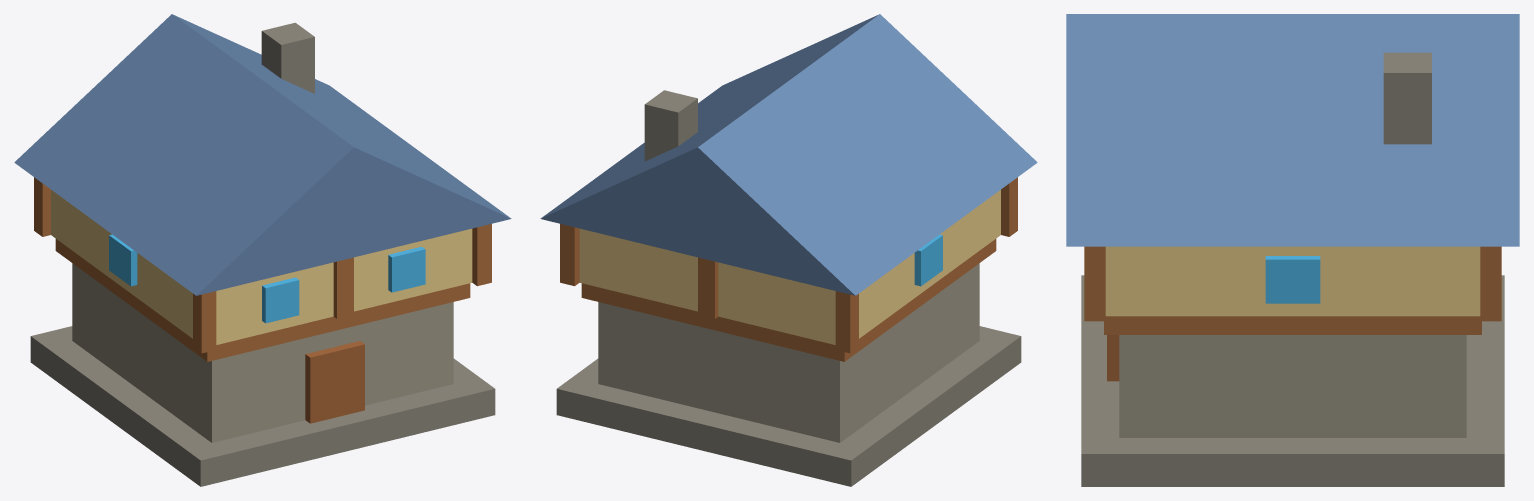
Rendered from house_t2_v3.glb.
The picture shows the model from 3 angles, left to right: view 1: azimuth 30°, elevation 25°; view 2: azimuth 150°, elevation 25°; view 3: azimuth 270°, elevation 25°; orthographic projection. The views are drawn at different scales.
Parts seen in each view (by area): view 1: house_t2_v3; view 2: house_t2_v3; view 3: house_t2_v3.
Boxes of the visible parts, bbox=[...] form: house_t2_v3: bbox=[14, 14, 511, 486]; house_t2_v3: bbox=[540, 14, 1037, 486]; house_t2_v3: bbox=[1066, 14, 1519, 486].
Bounding box in the file's own units: 0.75 × 0.7 × 0.75.
1 material, 1 textured.
